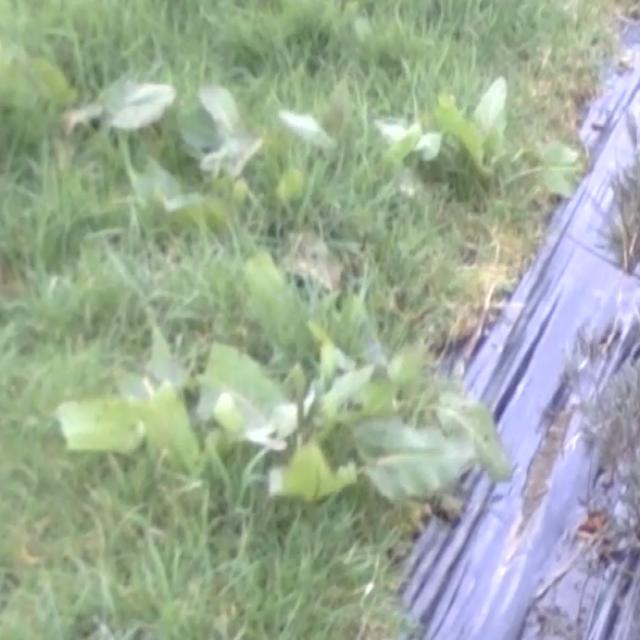organic waste: (47, 252, 549, 548), (435, 58, 622, 235), (59, 56, 194, 156), (190, 66, 280, 208), (371, 107, 448, 186), (286, 94, 330, 157)
